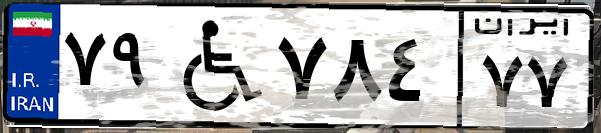4: (385, 28, 445, 110)
7: (270, 28, 330, 110), (57, 26, 110, 100), (475, 38, 525, 113), (525, 38, 570, 115)
8: (330, 28, 385, 110)
9: (110, 28, 158, 98)
ژ (معلولین و جانبازان): (158, 12, 270, 120)
